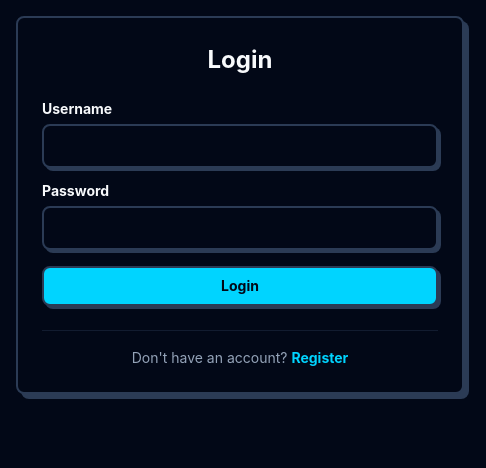
Test: LoginPage › shows validation errors when fields are empty
What coordinates should you click on to do the following:
click the button with test id "login-submit"
I would click on:
 (240, 286)
Its box is 42,266 -> 438,306.
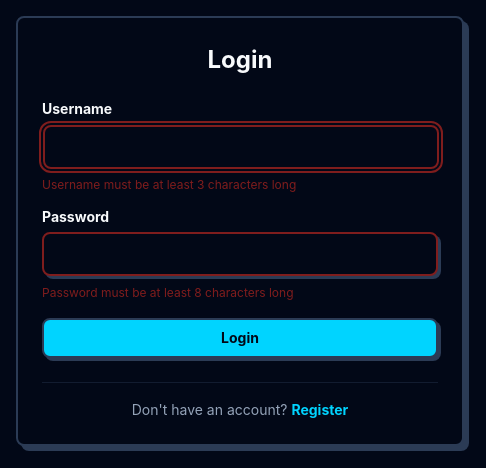
Now the number of elements with test id "field-error" is 2, box 42,177 -> 296,192; 42,285 -> 294,300
Now the text with test id "field-error" reads "Username must be at least 3 characters long", box 42,177 -> 296,192
Now the text with test id "field-error" reads "Password must be at least 8 characters long", box 42,285 -> 294,300
